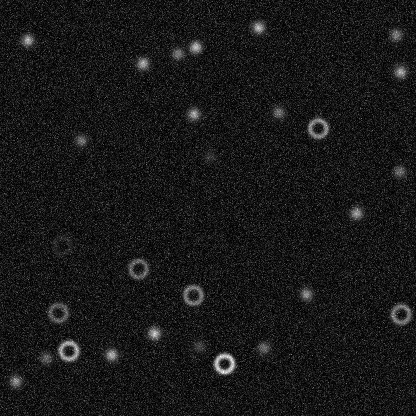Ring: (305, 116, 329, 140), (212, 351, 236, 375), (50, 233, 74, 257), (46, 300, 70, 324), (388, 302, 412, 326), (56, 338, 80, 362), (126, 256, 150, 280), (180, 283, 204, 307)
Spot: (37, 350, 53, 366), (185, 106, 201, 122), (298, 286, 314, 302), (391, 163, 407, 179), (348, 205, 364, 221), (201, 148, 217, 164), (134, 55, 150, 71), (19, 32, 35, 48), (392, 63, 408, 79), (7, 373, 23, 389), (187, 38, 203, 54), (270, 104, 286, 120), (169, 45, 185, 61), (255, 339, 271, 355), (190, 338, 206, 354), (103, 346, 119, 362), (73, 132, 89, 148), (146, 325, 162, 341), (250, 19, 266, 35), (387, 26, 403, 42)
